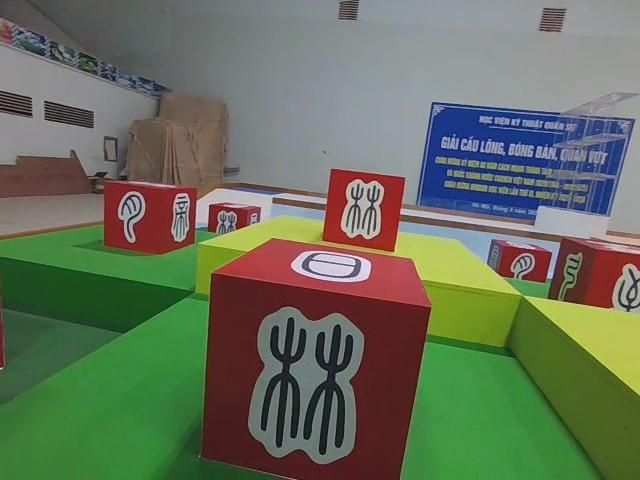R2 Fake: (197, 235, 435, 480), (545, 232, 640, 326), (99, 177, 201, 256), (321, 166, 409, 255), (485, 236, 554, 286), (207, 199, 263, 240)
